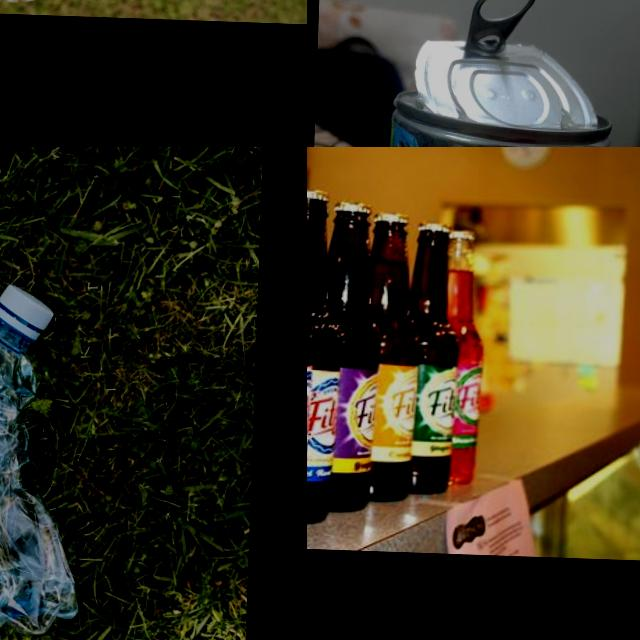aba de lata: (466, 0, 534, 60)
garrafa de vidro: (319, 200, 382, 514), (358, 212, 422, 503), (401, 220, 464, 496), (307, 188, 349, 525), (438, 229, 487, 485)
garrafa plástica: (0, 319, 88, 636)
lata: (373, 0, 615, 147)
tampa plástica: (0, 285, 55, 330)
